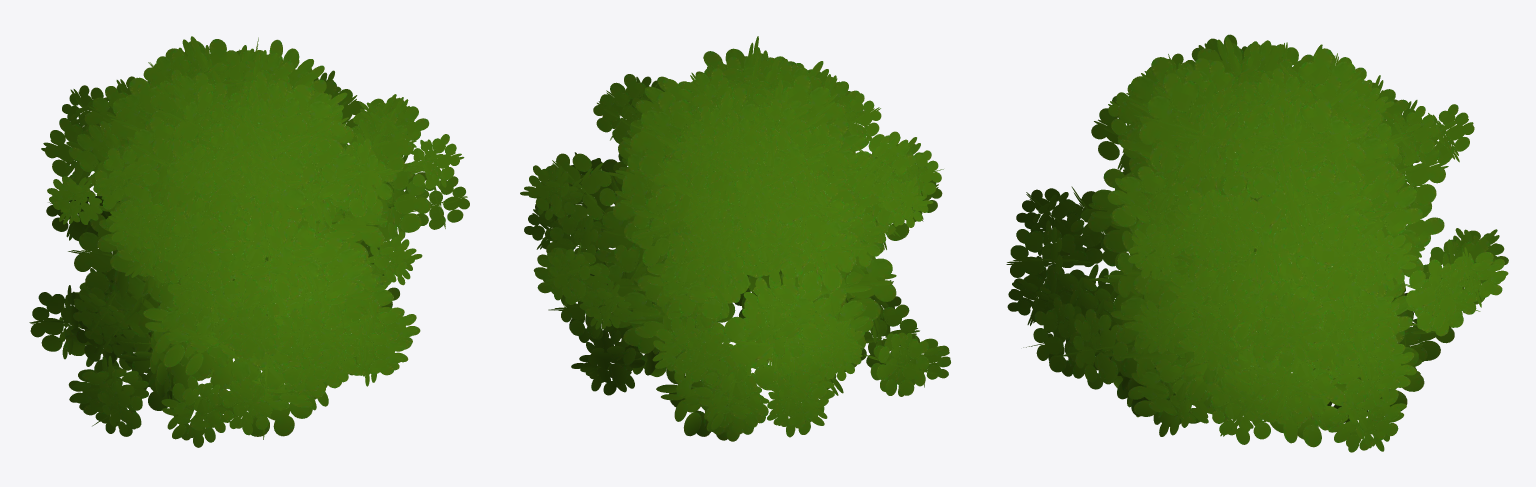
The model's file is bush-2.glb.
The picture shows the model from 3 angles, left to right: view 1: azimuth 30°, elevation 25°; view 2: azimuth 150°, elevation 25°; view 3: azimuth 270°, elevation 25°; orthographic projection. The views are drawn at different scales.
Parts seen in each view (by area): view 1: Bush_Large; view 2: Bush_Large; view 3: Bush_Large.
Boxes of the visible parts, x1,y1,x2,y2 form: Bush_Large: (29,36,469,447); Bush_Large: (520,36,950,441); Bush_Large: (1006,34,1508,452).
Size of the model in its own units: 0.7739 by 0.7001 by 0.7891.
Materials: 1 (1 with a texture image).
